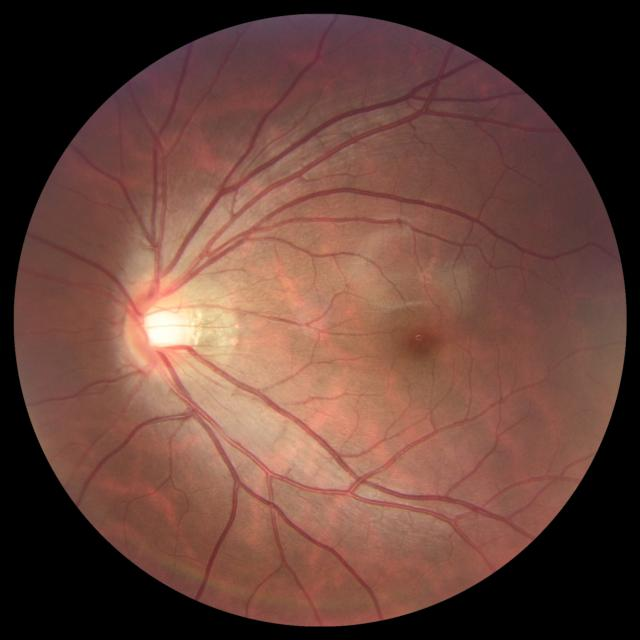OC: (144, 304, 185, 350)
OD: (122, 275, 201, 380)
